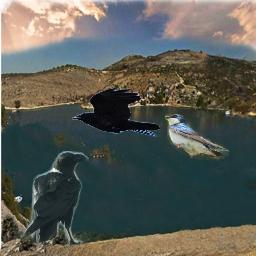Crow: (23, 151, 89, 245), (72, 88, 160, 137)
Swallow: (165, 114, 229, 162)
